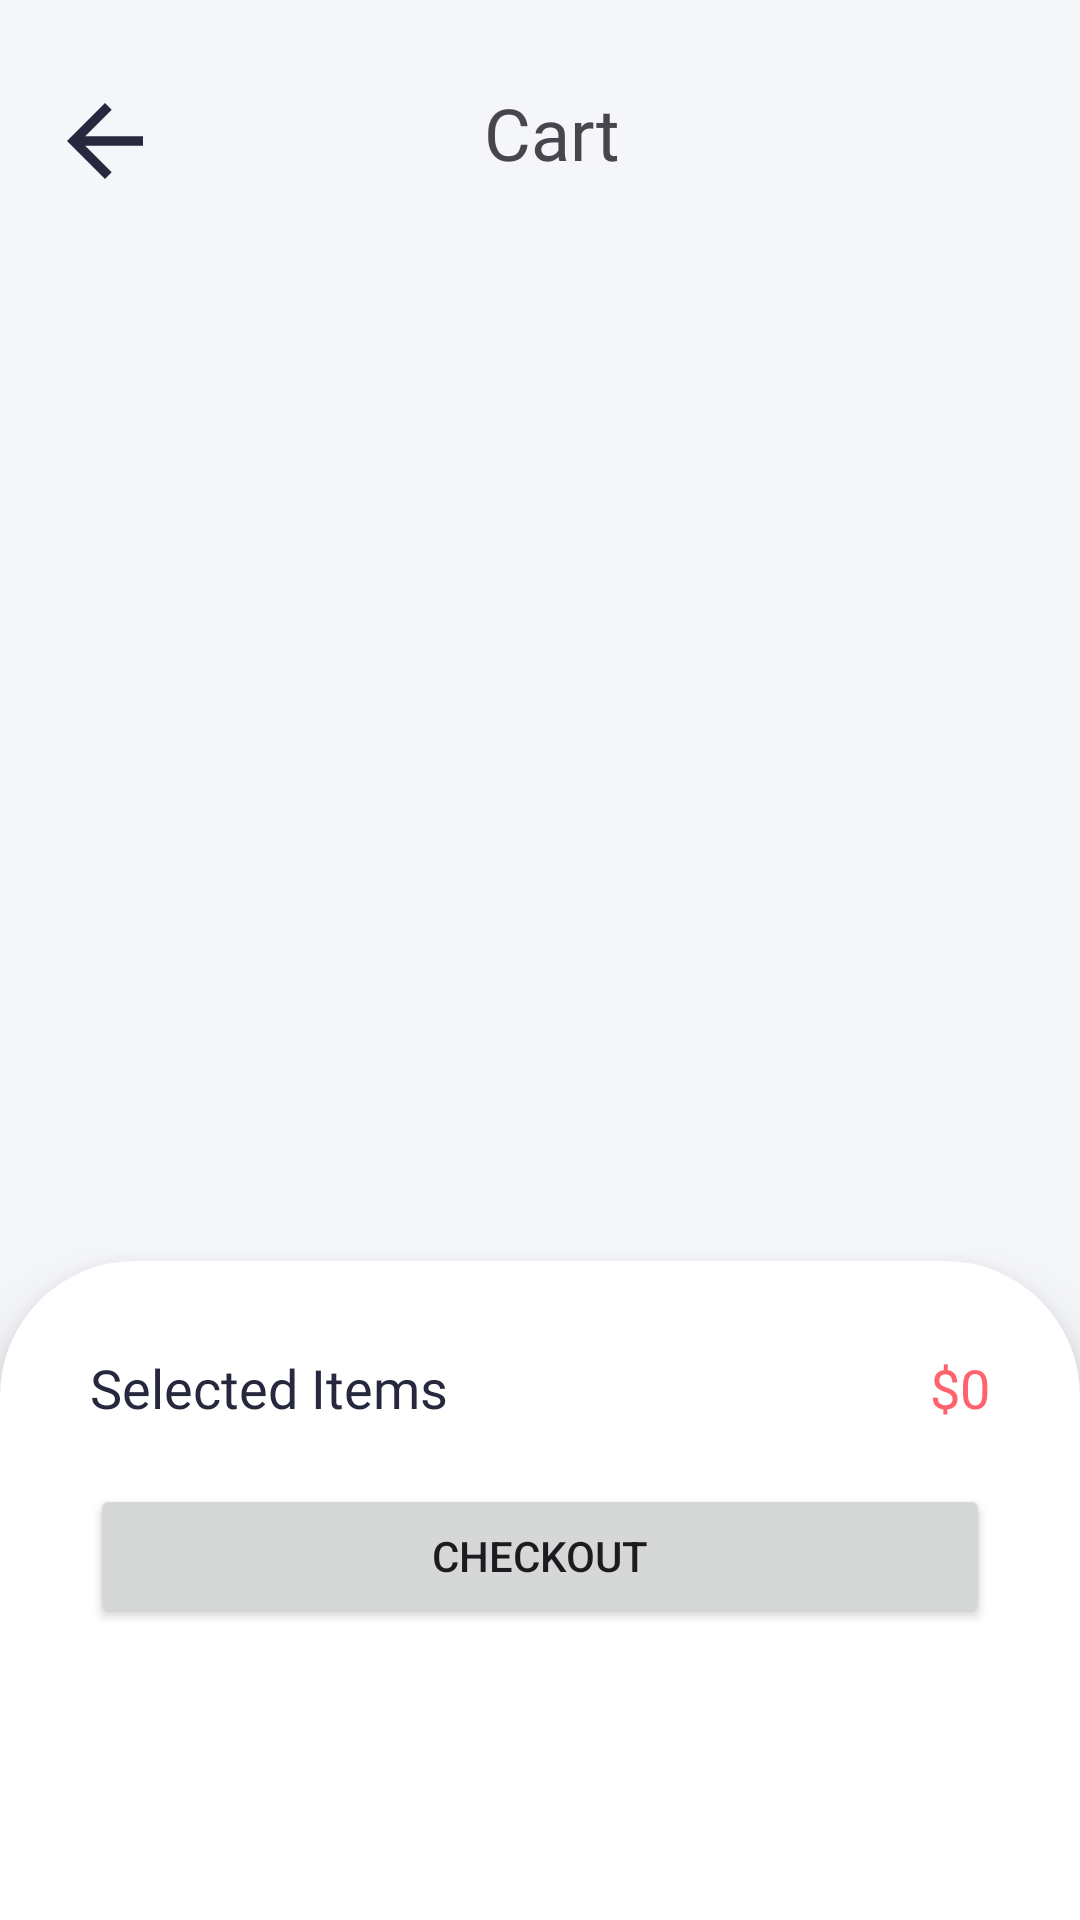

Screen size 1080*1920. Icon name, then its box in pixels as (x1, y1, x2, y2):
Back: (67, 103, 143, 179)
